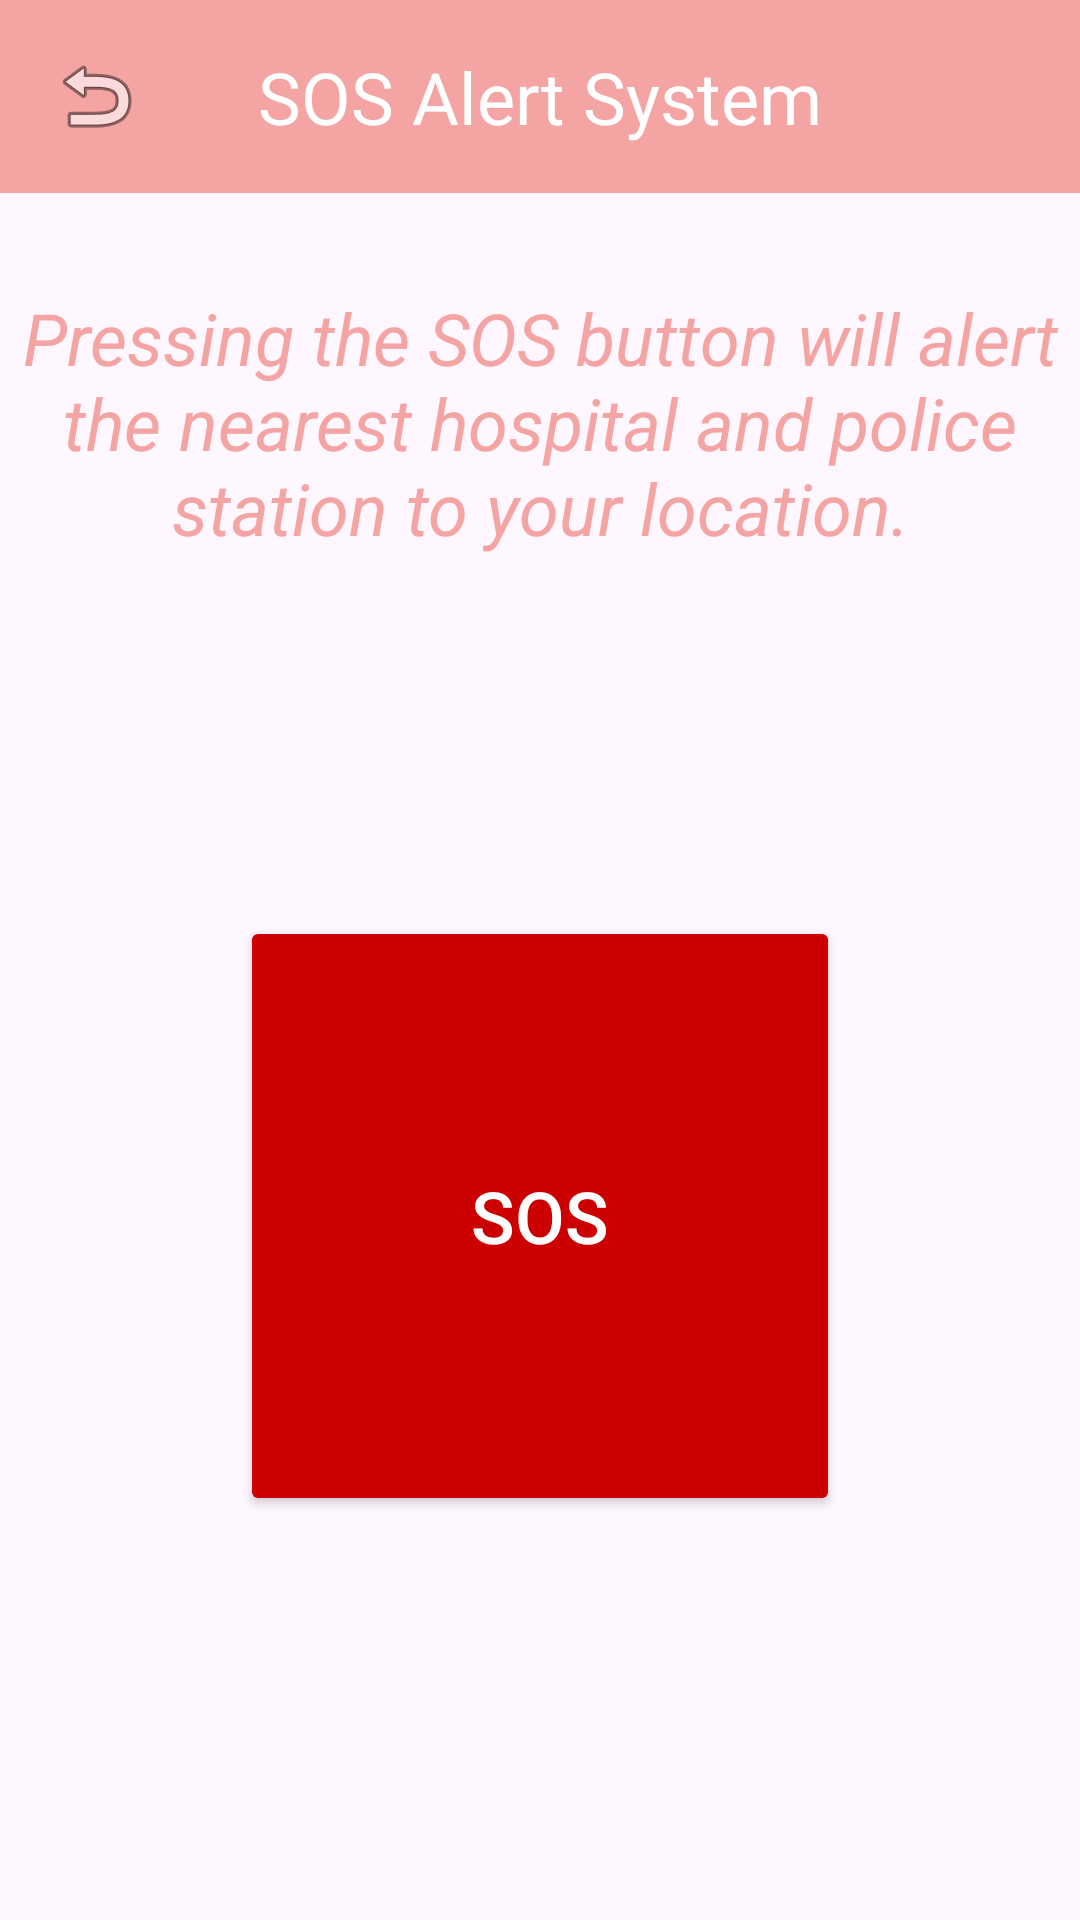

Where to tap for icons on this 1080px x 1920px app screen, as [x,y]:
Back button: [97,96]
